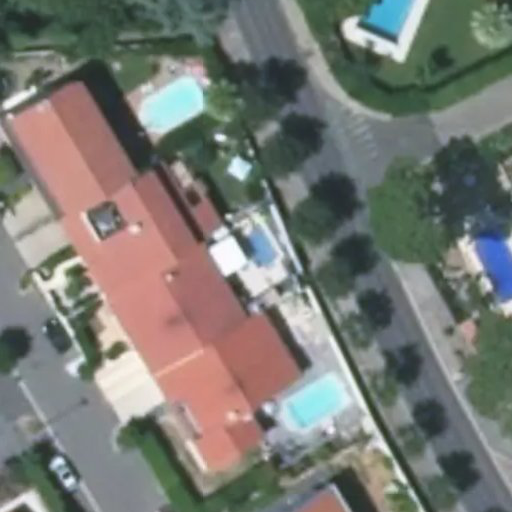pool: (233, 228, 282, 258)
